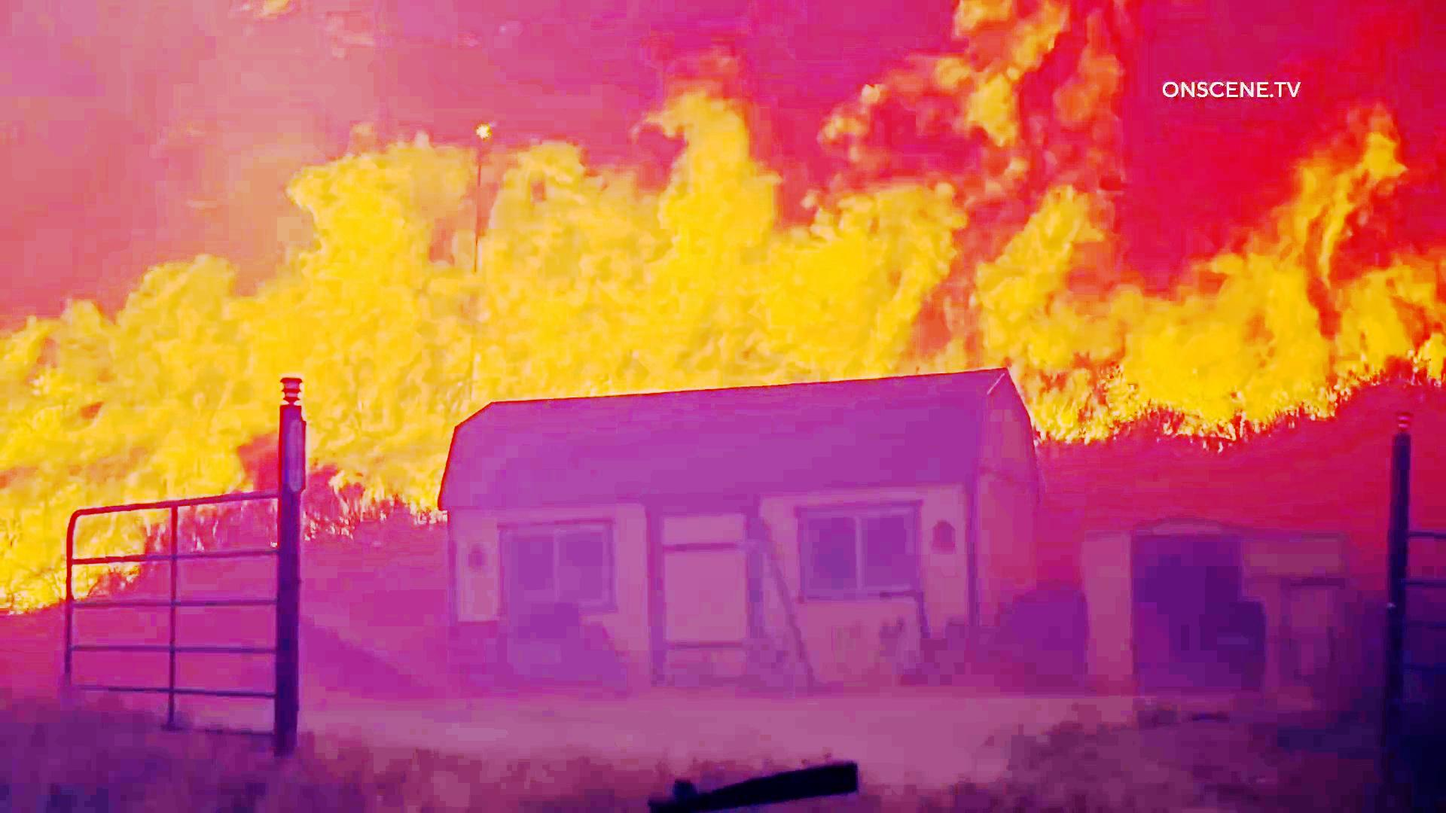fire: (0, 2, 1104, 386), (0, 121, 428, 488), (1136, 94, 1446, 428)
